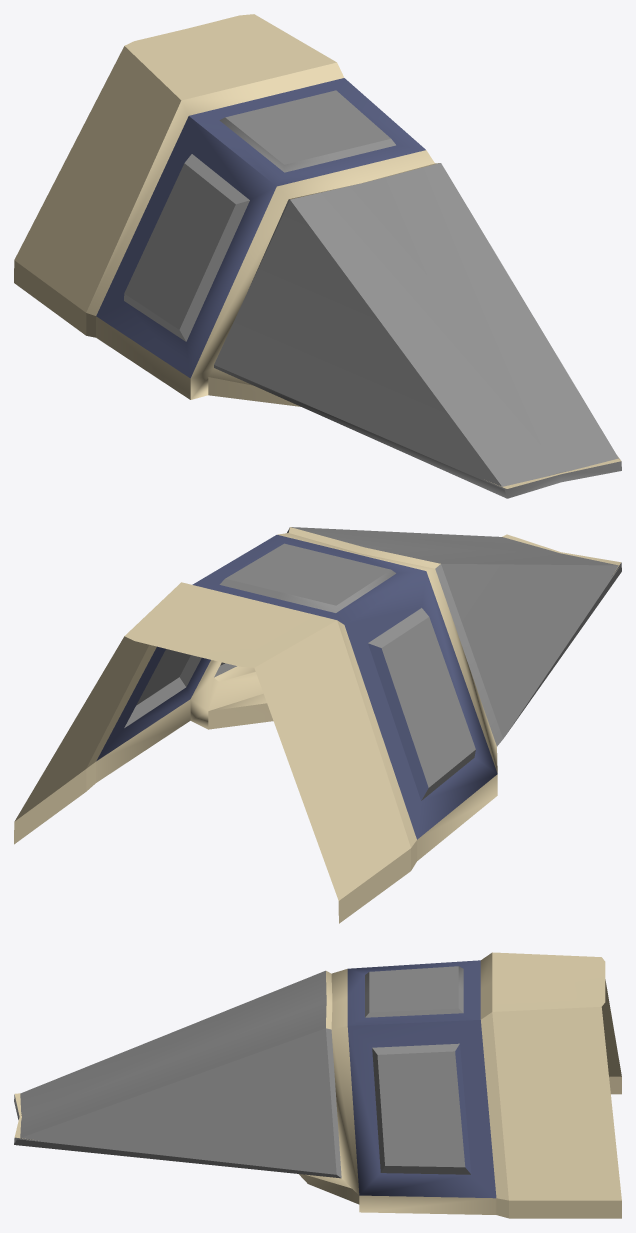
The model's file is raketa_cabin.fbx.
The picture shows the model from 3 angles, top to bottom: view 1: azimuth 30°, elevation 25°; view 2: azimuth 150°, elevation 25°; view 3: azimuth 270°, elevation 25°; orthographic projection. The views are drawn at different scales.
Parts seen in each view (by area): view 1: Cube.050; view 2: Cube.050; view 3: Cube.050.
Boxes of the visible parts, bbox=[...] form: Cube.050: bbox=[14, 14, 621, 498]; Cube.050: bbox=[14, 527, 621, 923]; Cube.050: bbox=[14, 952, 621, 1218].
Size of the model in its own units: 154 by 101 by 319.
